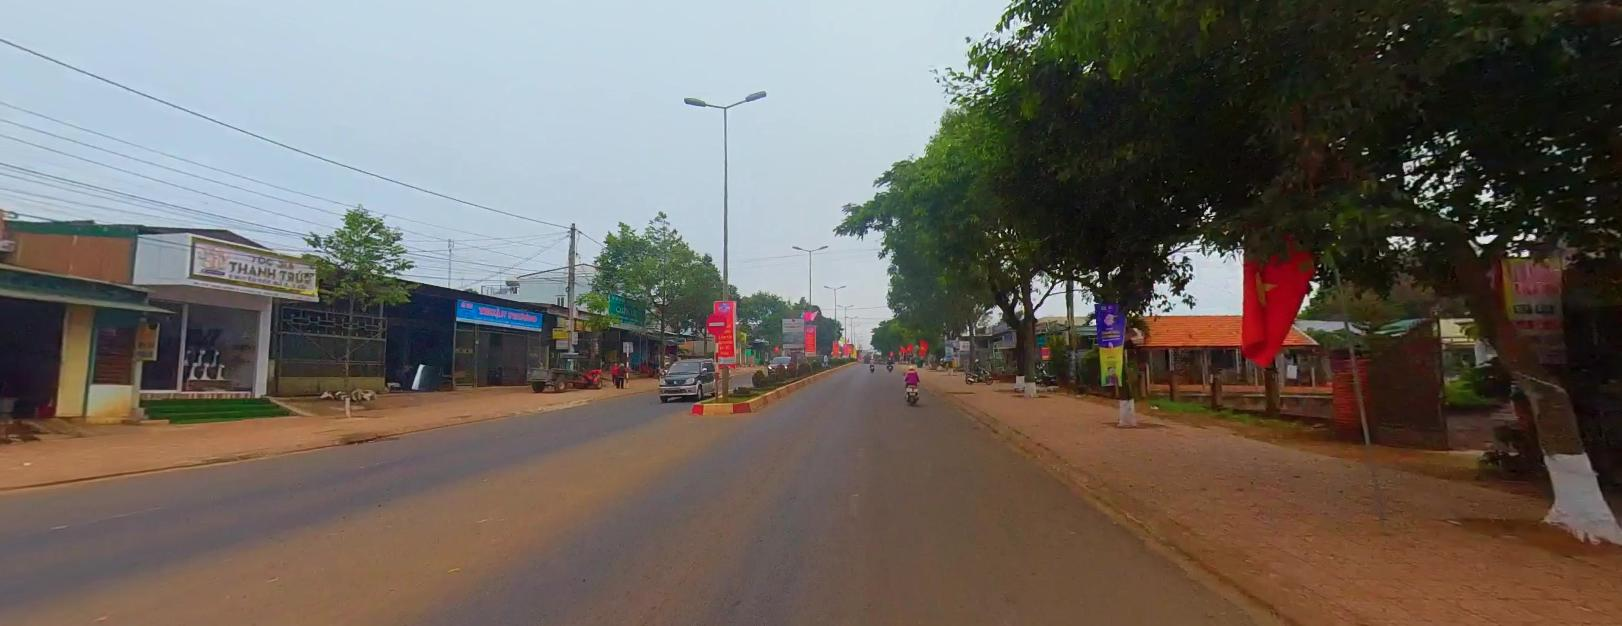Cam nguoc chieu: (705, 311, 727, 333)
